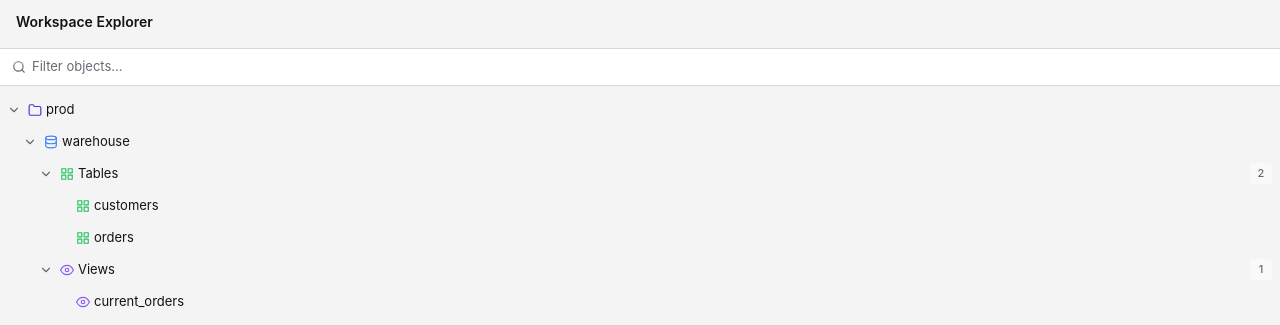
it: [@tree-navigator] TreeNavigator component › [@tree-navigator] search filtering › clear button resets the input and restores all tree nodes
Type "customers" into the field with placeholder "Filter objects...".
click(650, 67); type("customers")  # box [32, 57, 1268, 76]
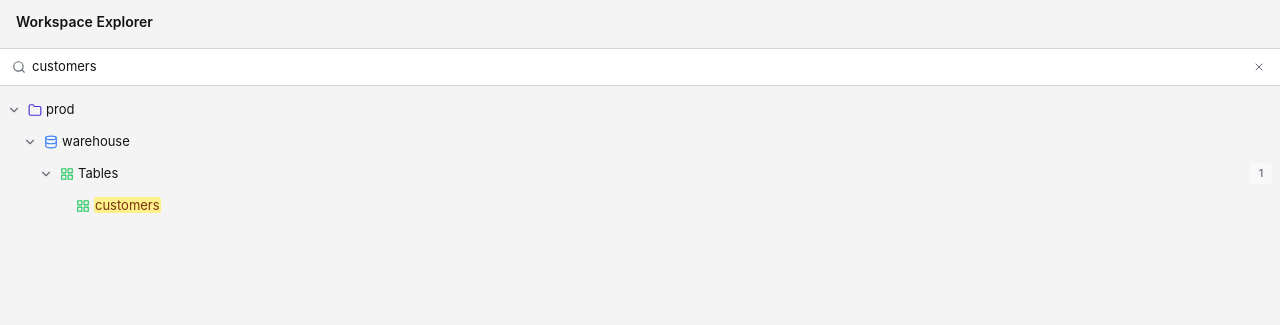
Click the button named "clear filter".
click(1259, 67)  # box [1250, 58, 1268, 76]
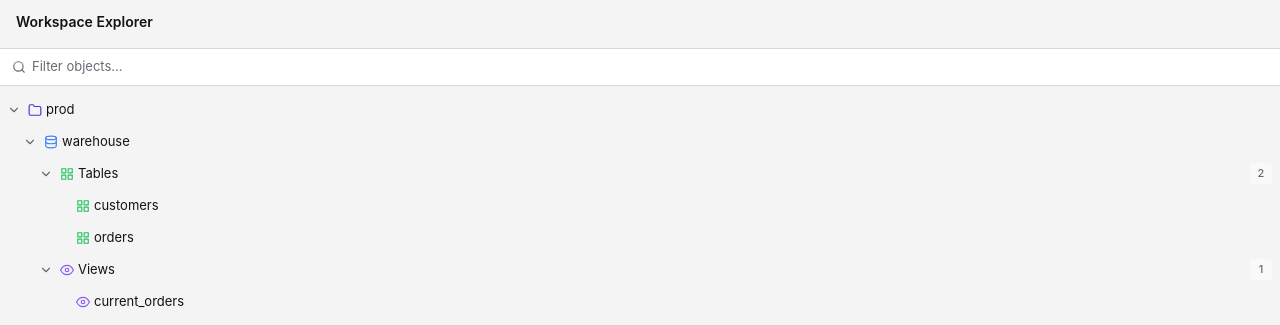
Check: the field with placeholder "Filter objects..." is empty, box [32, 57, 1268, 76]
Check: the text "orders" is shown, box [94, 229, 134, 245]
